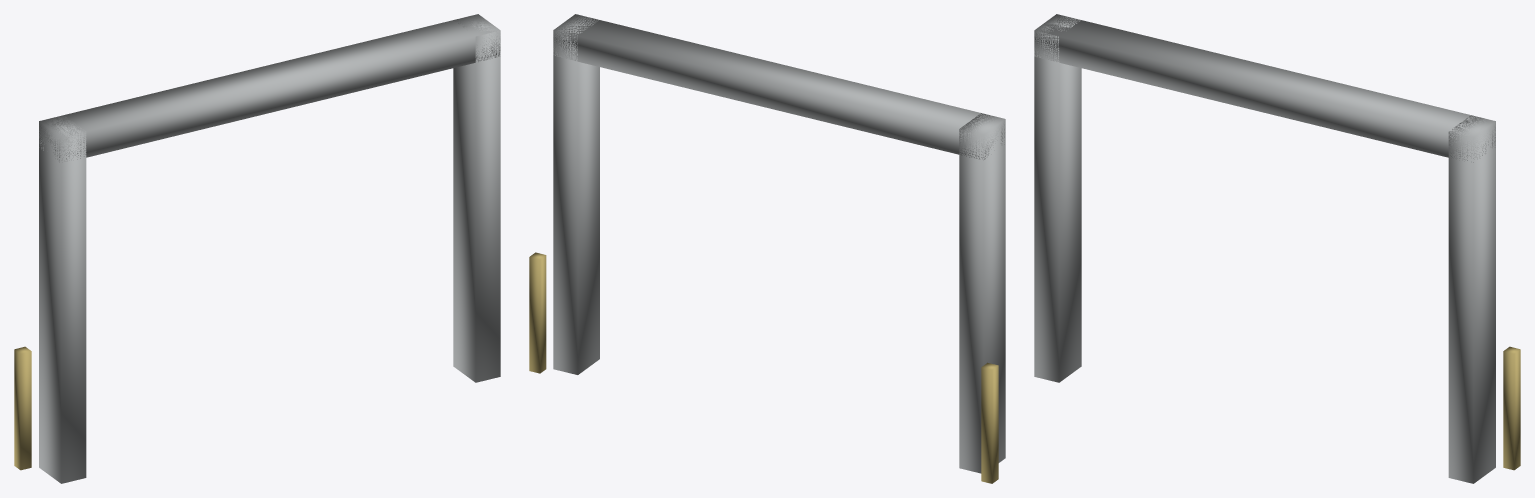
Rendered from atrium_edge_industrial_w280_h220_d28.glb.
3 views of the same model, side by side, from view 1: azimuth 30°, elevation 25°; view 2: azimuth 150°, elevation 25°; view 3: azimuth 330°, elevation 25° (orthographic). The views are drawn at different scales.
Parts seen in each view (by area): view 1: world; view 2: world; view 3: world.
Part boxes in pixels (left/top/right/bottom): world: left=14, top=14, right=500, bottom=483; world: left=529, top=14, right=1005, bottom=483; world: left=1034, top=14, right=1520, bottom=483.
Size of the model in its own units: 3.4 by 2.38 by 0.38.
